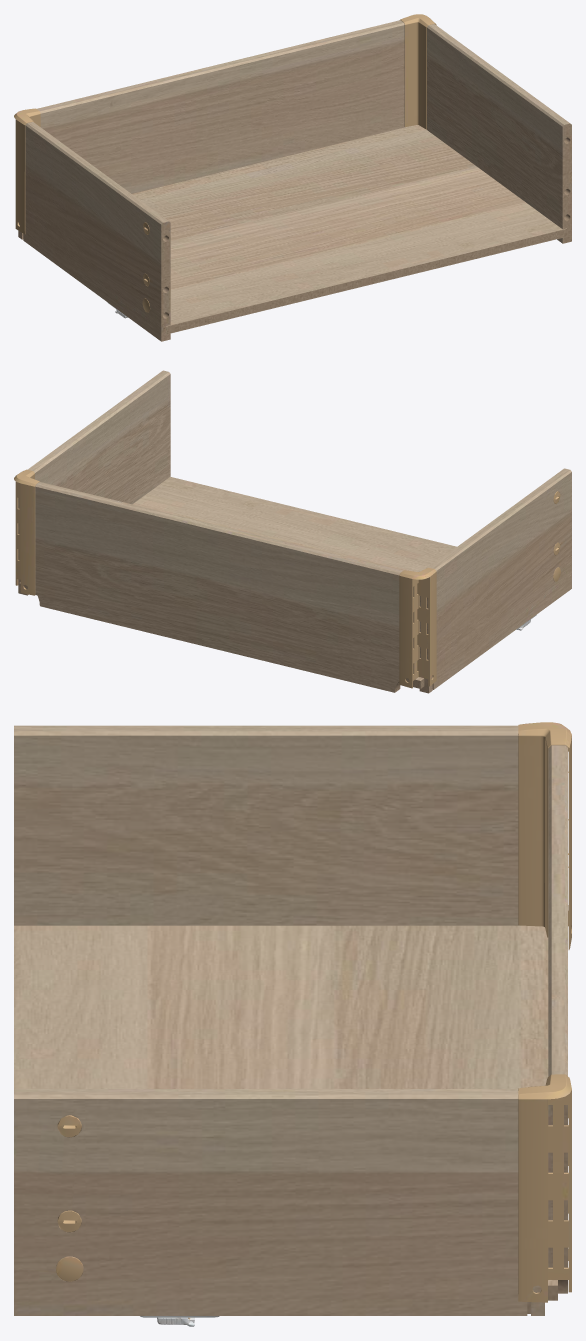
The model's file is besta_rama_szuflady_50351514.glb.
The picture shows the model from 3 angles, top to bottom: view 1: azimuth 30°, elevation 25°; view 2: azimuth 150°, elevation 25°; view 3: azimuth 270°, elevation 25°; orthographic projection. The views are drawn at different scales.
Parts seen in each view (by area): view 1: besta_rama_szuflady_50351514; view 2: besta_rama_szuflady_50351514; view 3: besta_rama_szuflady_50351514.
Boxes of the visible parts, x1,y1,x2,y2 form: besta_rama_szuflady_50351514: (14,14,571,341); besta_rama_szuflady_50351514: (14,370,571,693); besta_rama_szuflady_50351514: (14,722,571,1326).
Size of the model in its own units: 0.5414 by 0.1592 by 0.3404.
Materials: 1 (1 with a texture image).
